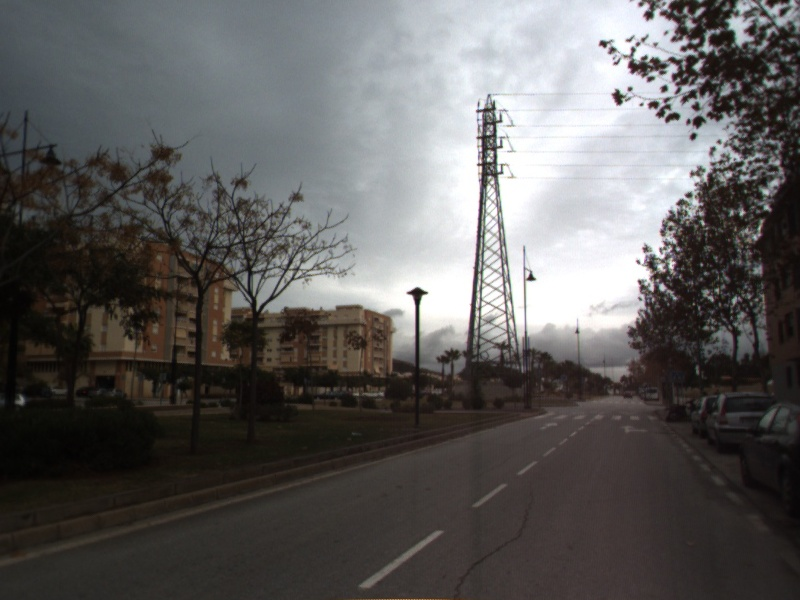STRAIGHT: (537, 420, 560, 432)
STRAIGHT_RIGHT: (618, 423, 651, 436)
